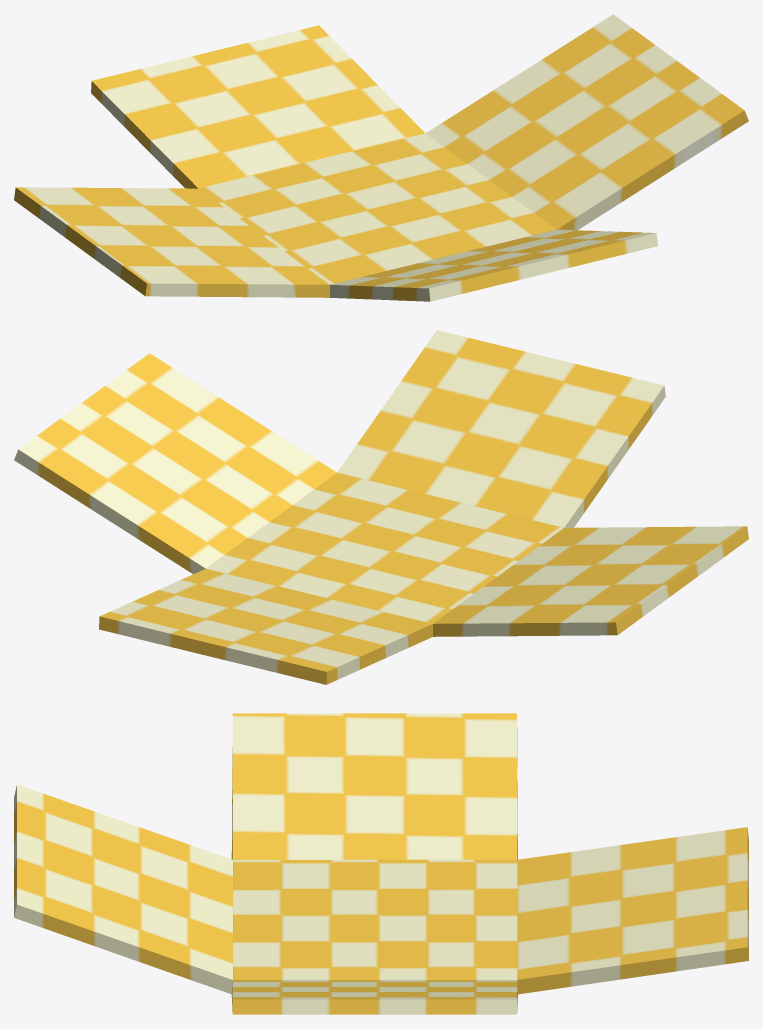
The model's file is PresentOpen02_Art.fbx.
3 renders of one model, top to bottom at view 1: azimuth 30°, elevation 25°; view 2: azimuth 150°, elevation 25°; view 3: azimuth 270°, elevation 25°, orthographic. The views are drawn at different scales.
Visible parts, largest first — view 1: PresentOpen02_Art; view 2: PresentOpen02_Art; view 3: PresentOpen02_Art.
Part boxes in pixels (x1,y1,x2,y2): PresentOpen02_Art: (14,14,748,301); PresentOpen02_Art: (14,330,748,684); PresentOpen02_Art: (14,713,748,1014).
Bounding box in the file's own units: 2.24 × 0.3039 × 2.18.
